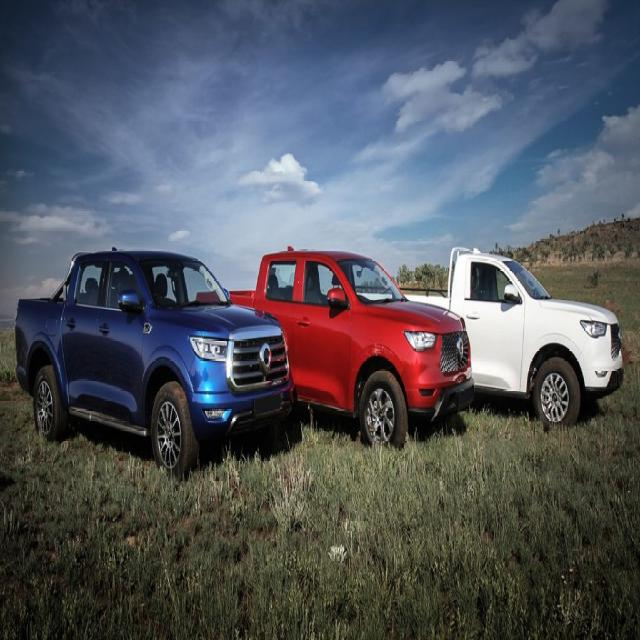Pickup Trucks: (15, 248, 292, 476), (292, 248, 474, 453), (473, 250, 622, 431)
